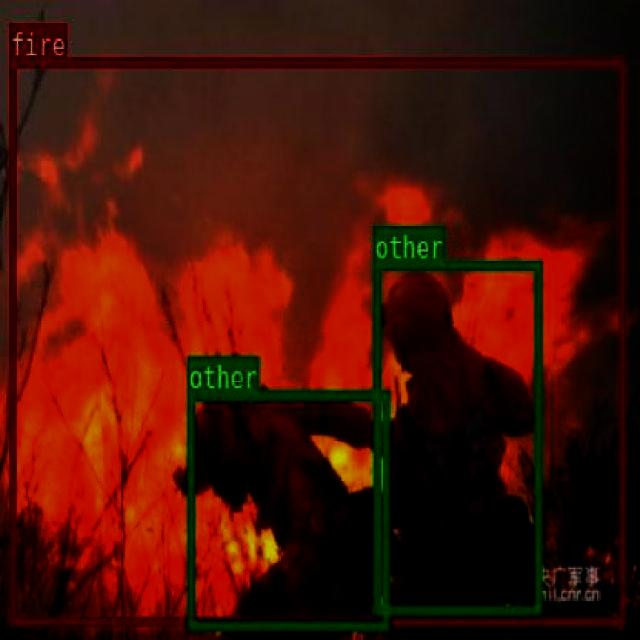fire: (8, 56, 624, 624)
